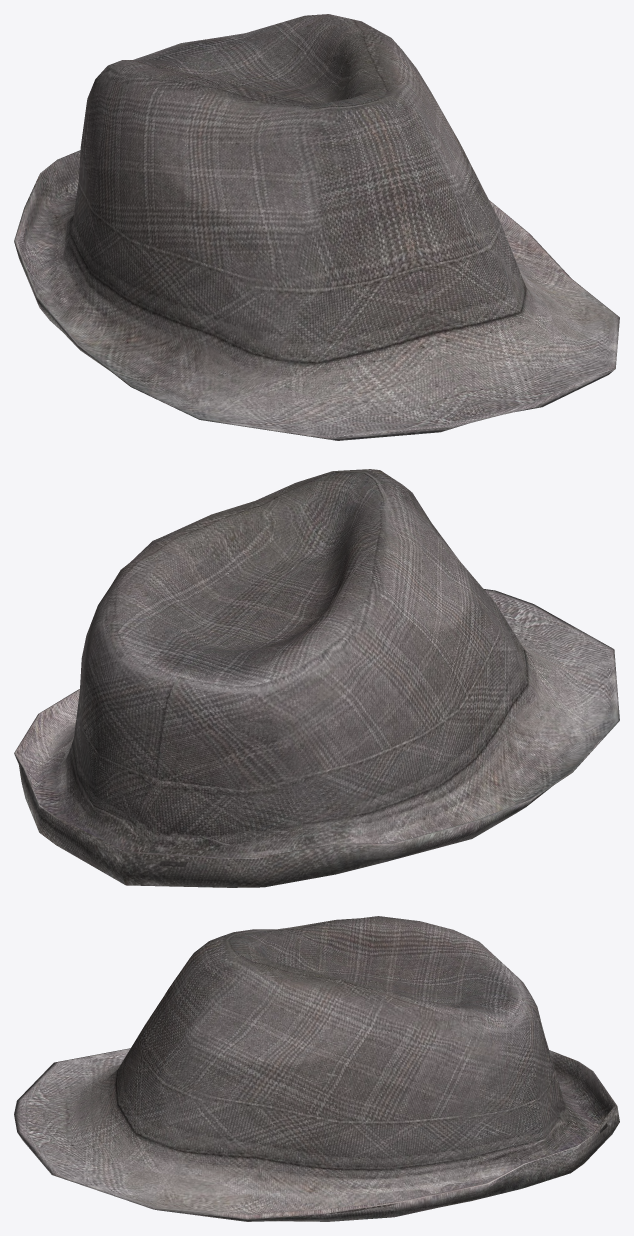
File: hat_fedora.gltf
3 renders of one model, top to bottom at view 1: azimuth 30°, elevation 25°; view 2: azimuth 150°, elevation 25°; view 3: azimuth 270°, elevation 25°, orthographic. The views are drawn at different scales.
Parts seen in each view (by area): view 1: hat_fedora; view 2: hat_fedora; view 3: hat_fedora.
Part boxes in pixels (left/top/right/bottom): hat_fedora: left=14, top=14, right=619, bottom=440; hat_fedora: left=14, top=469, right=619, bottom=887; hat_fedora: left=14, top=916, right=619, bottom=1221.
Bounding box in the file's own units: 0.1892 × 0.0991 × 0.2713.
Materials: 1 (1 with a texture image).
